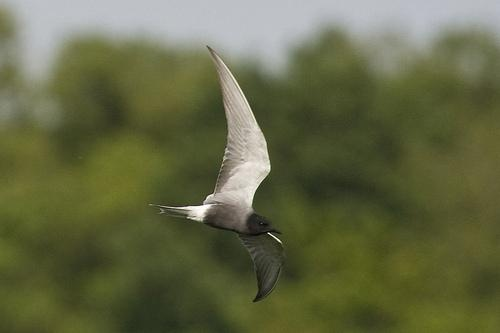bird: (153, 45, 286, 306)
